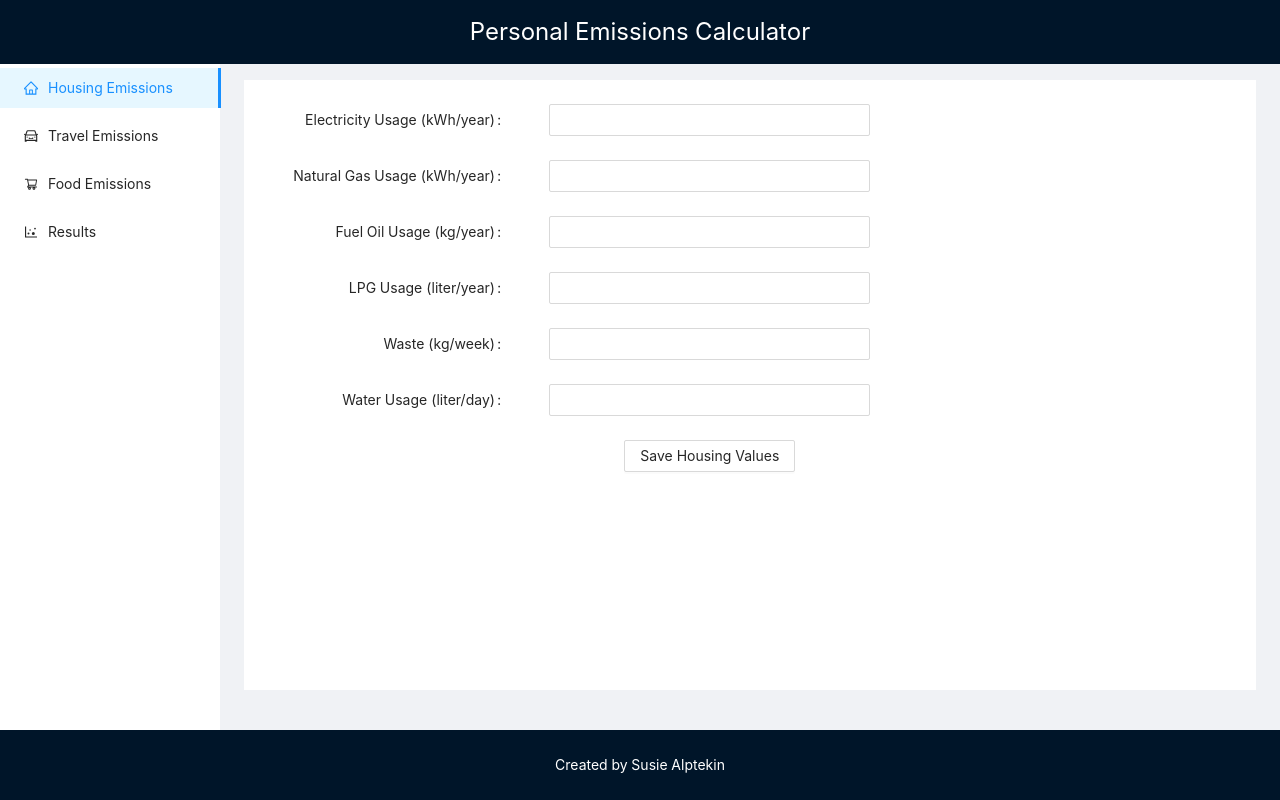
Scenario: menu navigation travel emissions
Note: click on travel emissions and validate form text
Click the menu item "Travel Emissions" at (91, 136), box [24,127,158,144]
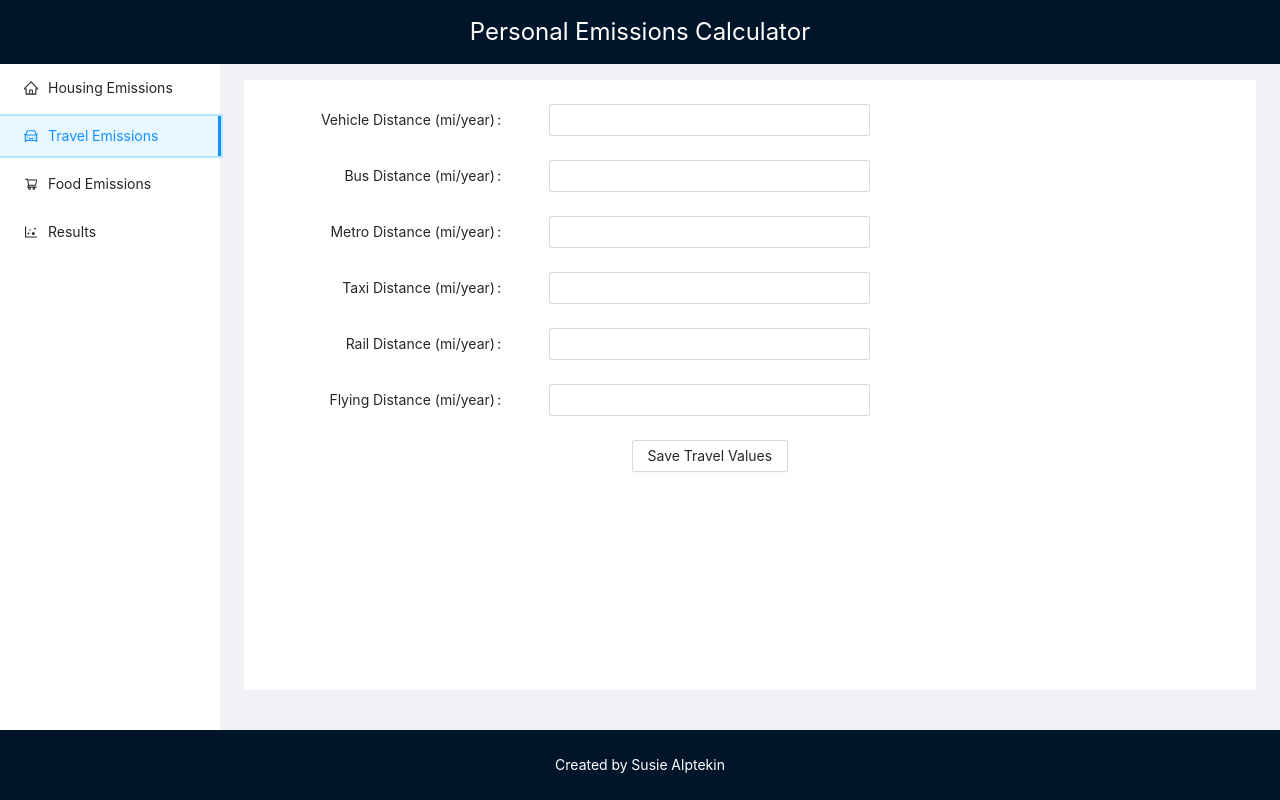
Result: the text "Vehicle Distance (mi/year)" is shown at [321,111,495,128]
Result: the text "Bus Distance (mi/year)" is shown at [344,167,495,184]
Result: the text "Metro Distance (mi/year)" is shown at [330,223,495,240]
